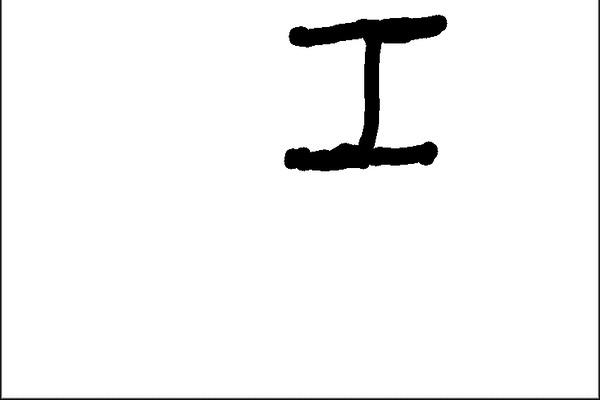i: (278, 8, 461, 180)
